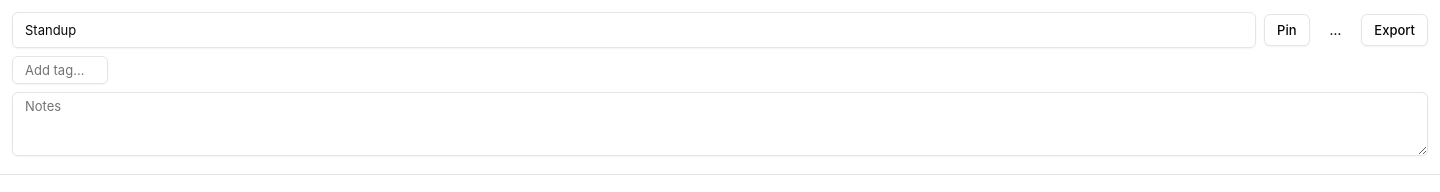
Test: SessionHeader › renames on Enter and re-renders the committed name from the sessions reply, not local state
Replace the text in the field named "Session name" with "Standup v2" at [634, 30], box [12,12,1256,48]
Then press Enter
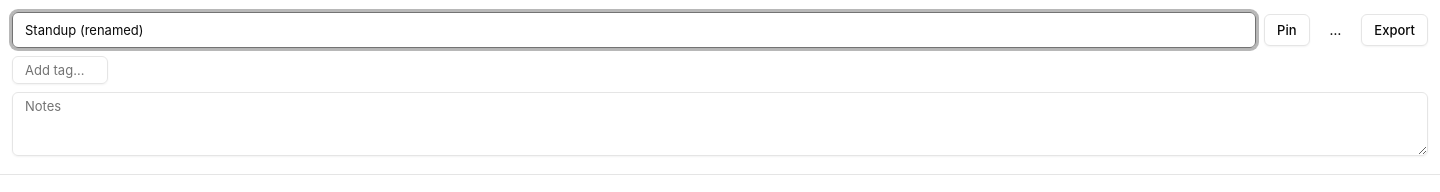
Expected: the field showing "Standup (renamed)" is shown, [12,12,1256,48]
